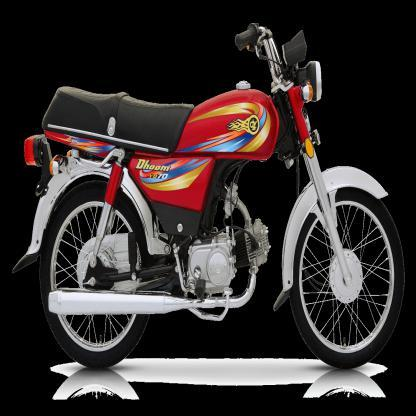Motorcycle: (15, 9, 408, 373)
